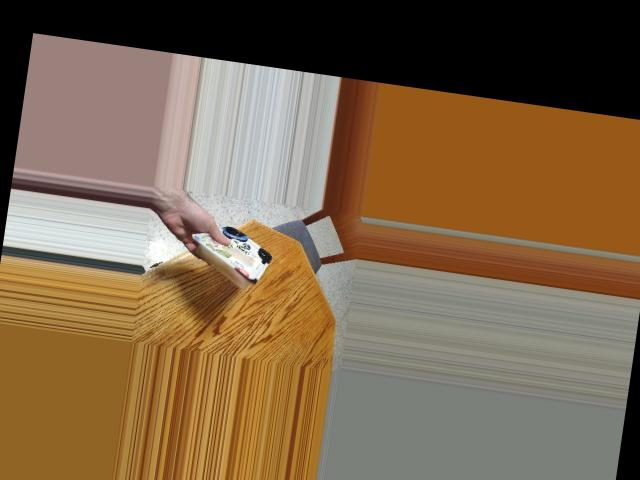cheese: (197, 213, 273, 298)
